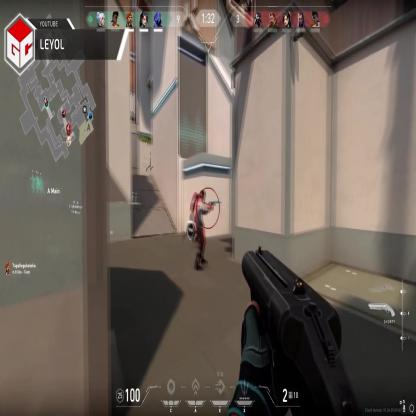enemy: (191, 185, 209, 272)
enemy_head: (200, 190, 205, 202)
